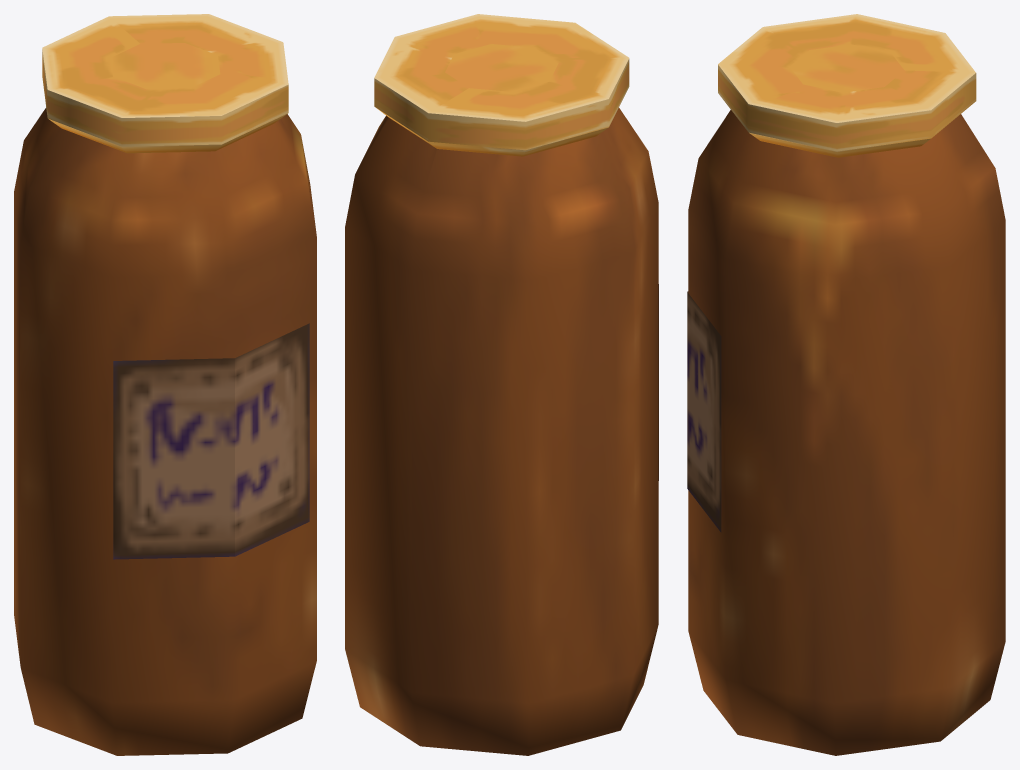
The model's file is Jar_Single2.fbx.
The picture shows the model from 3 angles, left to right: view 1: azimuth 30°, elevation 25°; view 2: azimuth 150°, elevation 25°; view 3: azimuth 270°, elevation 25°; orthographic projection.
Visible parts, largest first — view 1: Jar_single2; view 2: Jar_single2; view 3: Jar_single2.
Boxes of the visible parts, x1,y1,x2,y2 form: Jar_single2: (14,14,316,755); Jar_single2: (345,14,658,755); Jar_single2: (687,14,1005,755).
Size of the model in its own units: 8.66 by 18.88 by 8.69.
1 material, 1 textured.
